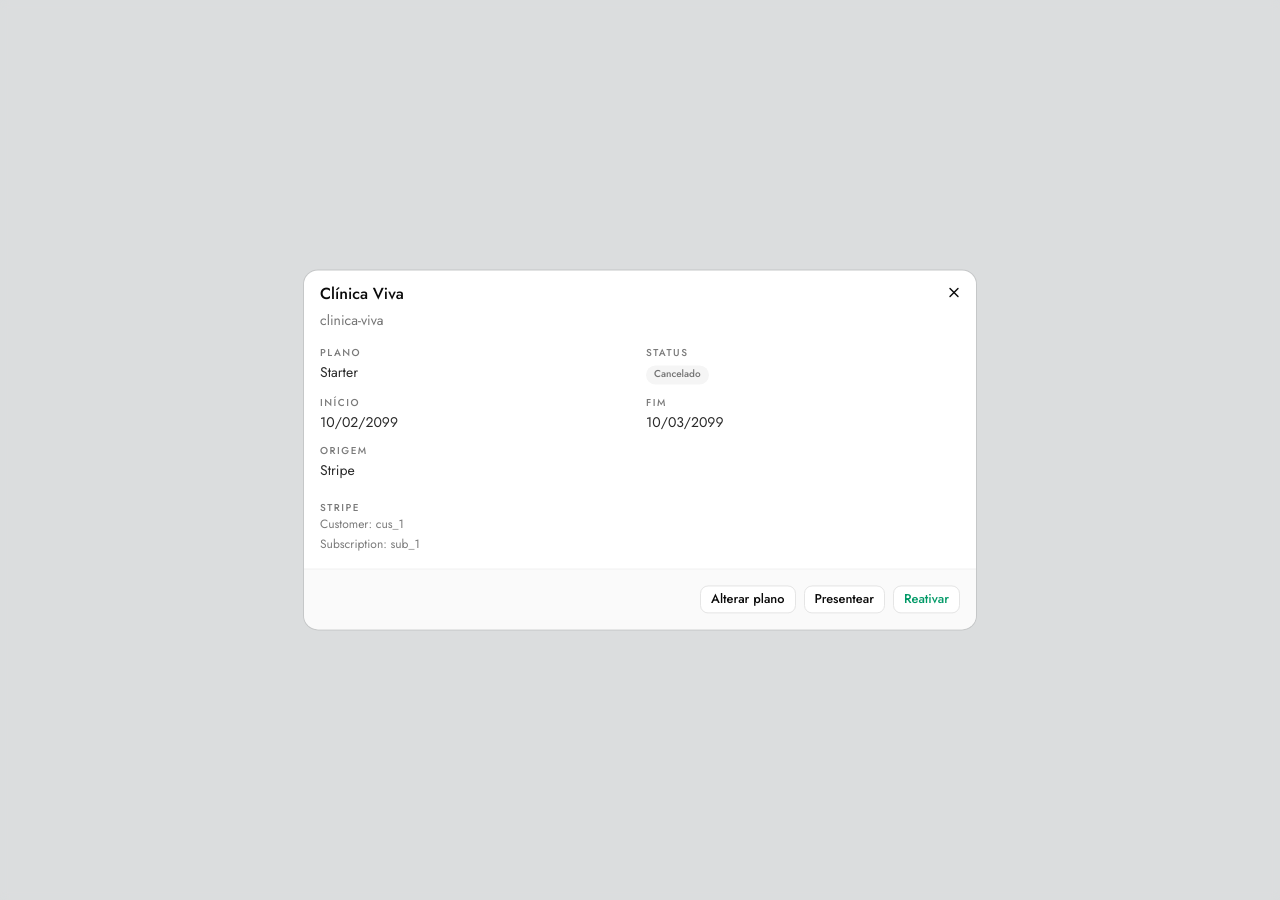
SubscriptionDetailDialog on a Stripe subscription › says the subscription is still active at Stripe when it is billing again
Click the button "Reativar": (926, 600) [893, 586, 960, 614]
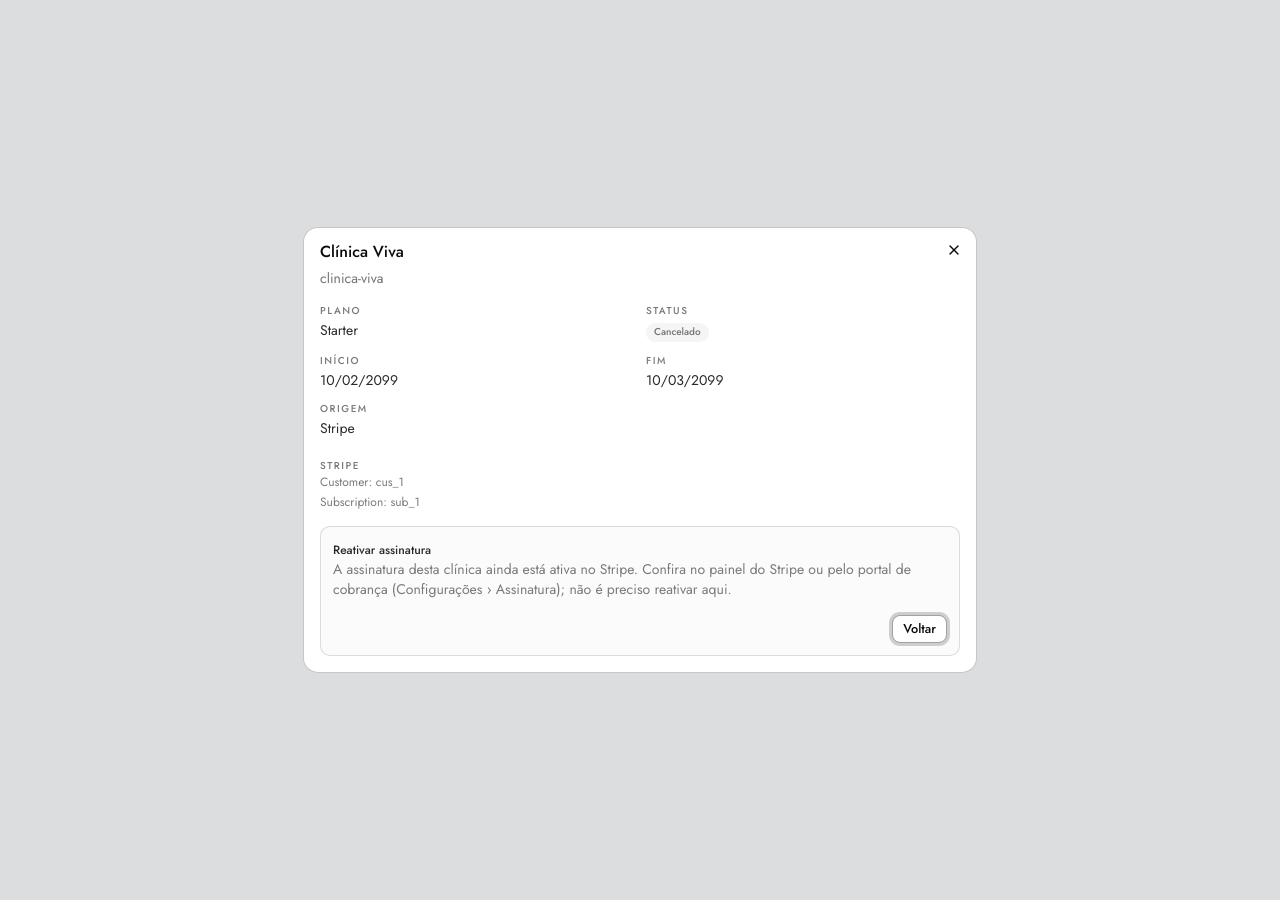
Expected: the text with test id "admin-stripe-reactivation-blocked" shows "ainda está ativa no Stripe", [333, 559, 911, 599]
